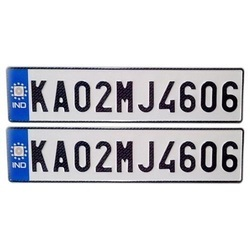inlp: (4, 124, 248, 185), (3, 64, 245, 125)
